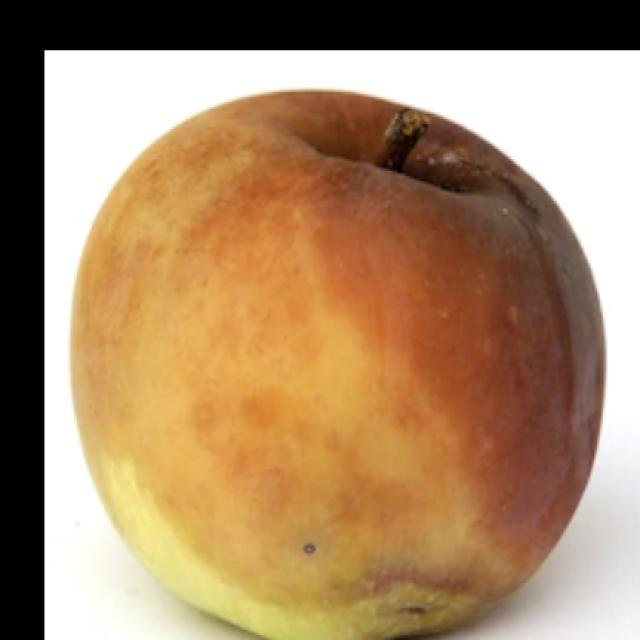Rotten: (73, 95, 600, 640)
